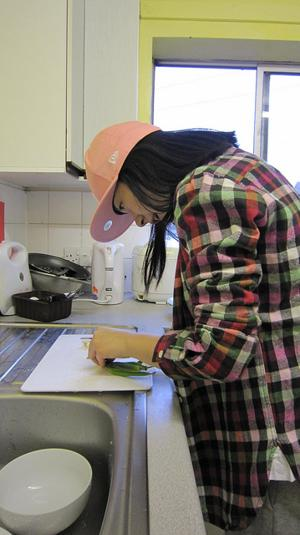person: (84, 122, 300, 533)
